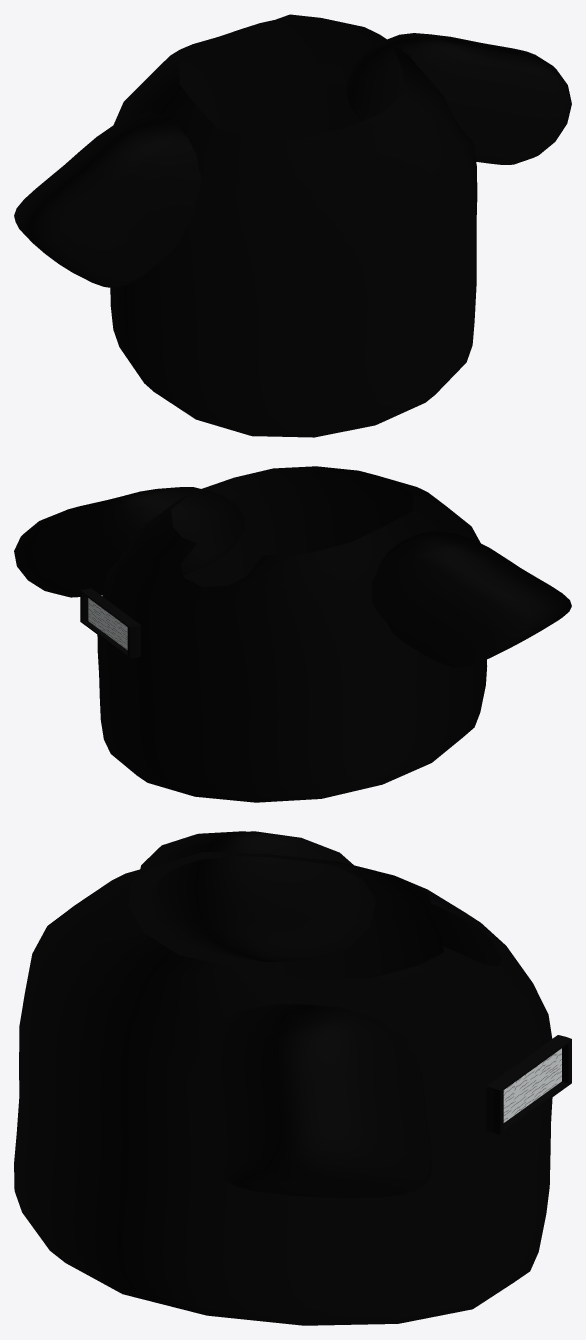
Rendered from item-mcdronkles-uniform.glb.
The picture shows the model from 3 angles, top to bottom: view 1: azimuth 30°, elevation 25°; view 2: azimuth 150°, elevation 25°; view 3: azimuth 270°, elevation 25°; orthographic projection. The views are drawn at different scales.
Size of the model in its own units: 0.0252 by 0.012 by 0.0178.
Materials: 3 (1 with a texture image).
